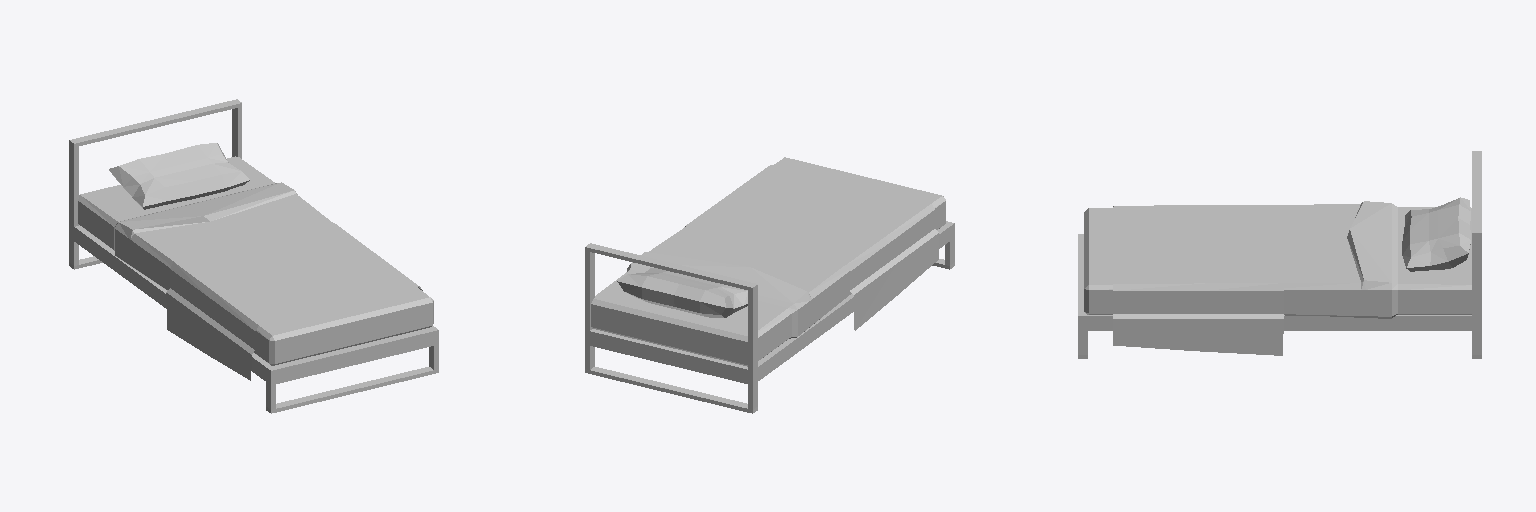
Rendered from lozko.obj.
3 renders of one model, left to right at view 1: azimuth 30°, elevation 25°; view 2: azimuth 150°, elevation 25°; view 3: azimuth 270°, elevation 25°, orthographic.
Visible parts, largest first — view 1: Bed_Single.002_Cube.002, Bed_Single.003_Cube.003, Bed_Single.001_Cube.001, Bed_Single_Cube.044, Bed_Single.004_Cube.004; view 2: Bed_Single.002_Cube.002, Bed_Single_Cube.044, Bed_Single.001_Cube.001, Bed_Single.003_Cube.003, Bed_Single.004_Cube.004; view 3: Bed_Single.002_Cube.002, Bed_Single.003_Cube.003, Bed_Single_Cube.044, Bed_Single.001_Cube.001, Bed_Single.004_Cube.004.
Part boxes in pixels (x1,y1,x2,y2): Bed_Single.002_Cube.002: (166,223,422,380); Bed_Single.003_Cube.003: (131,194,433,365); Bed_Single.001_Cube.001: (69,99,438,413); Bed_Single_Cube.044: (78,143,274,249); Bed_Single.004_Cube.004: (114,182,297,265); Bed_Single.002_Cube.002: (685,165,938,330); Bed_Single_Cube.044: (591,268,791,366); Bed_Single.001_Cube.001: (585,221,954,413); Bed_Single.003_Cube.003: (649,157,945,324); Bed_Single.004_Cube.004: (627,252,811,338); Bed_Single.002_Cube.002: (1113,205,1285,355); Bed_Single.003_Cube.003: (1084,204,1360,317); Bed_Single_Cube.044: (1398,197,1474,314); Bed_Single.001_Cube.001: (1078,151,1481,358); Bed_Single.004_Cube.004: (1347,201,1397,318).
Bounding box in the file's own units: 1.98 × 1.35 × 3.94.